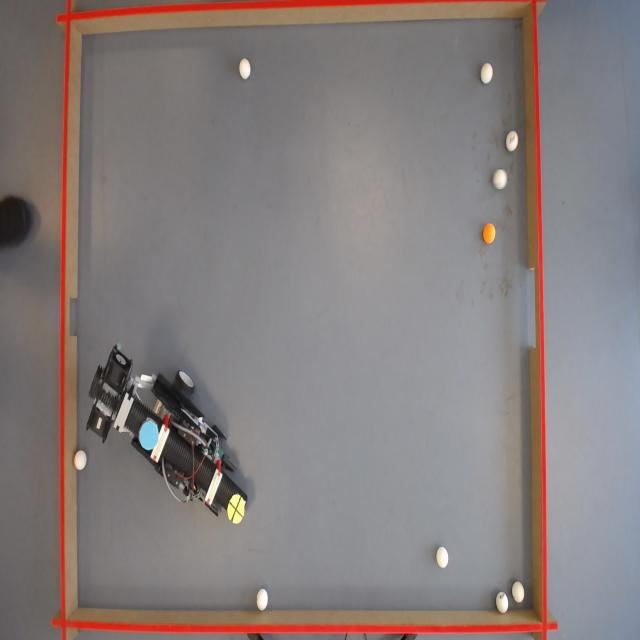orange: (484, 224, 498, 246)
robot: (93, 351, 255, 524)
robot-front: (229, 492, 247, 524)
robot-rear: (139, 419, 159, 452)
white: (437, 546, 451, 570), (505, 130, 519, 154), (493, 170, 508, 192), (255, 589, 269, 612), (239, 58, 253, 80), (480, 61, 494, 82), (73, 450, 87, 471), (496, 592, 509, 614), (514, 582, 526, 604)
